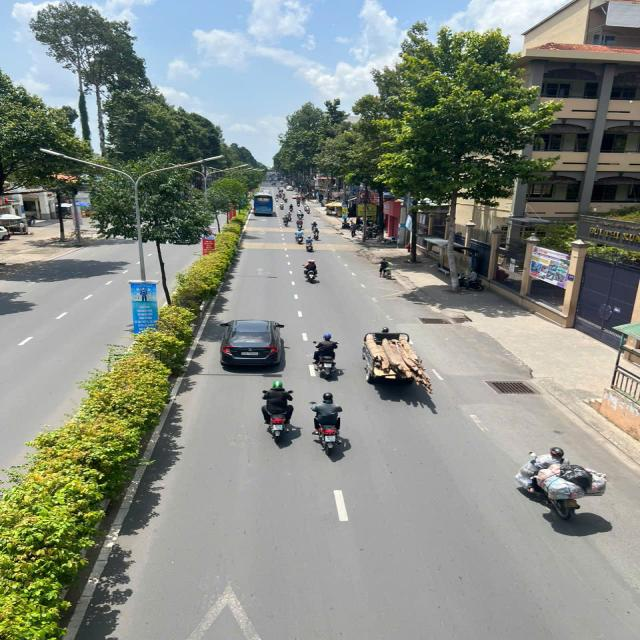car: (215, 316, 290, 373), (249, 192, 278, 218)
motobyte: (513, 446, 609, 520), (310, 391, 348, 455), (259, 378, 296, 443), (312, 331, 340, 381), (301, 259, 322, 283), (292, 226, 306, 246), (306, 235, 316, 253), (304, 202, 315, 216), (281, 212, 291, 226), (313, 226, 322, 241), (296, 216, 305, 230), (296, 208, 306, 220), (312, 220, 318, 234), (278, 200, 284, 210), (289, 202, 295, 212)
